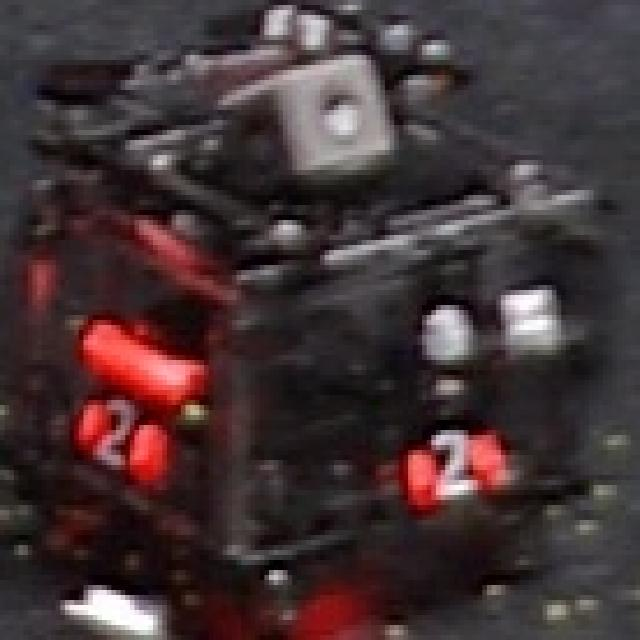R2: (401, 418, 517, 512), (72, 372, 165, 482)
